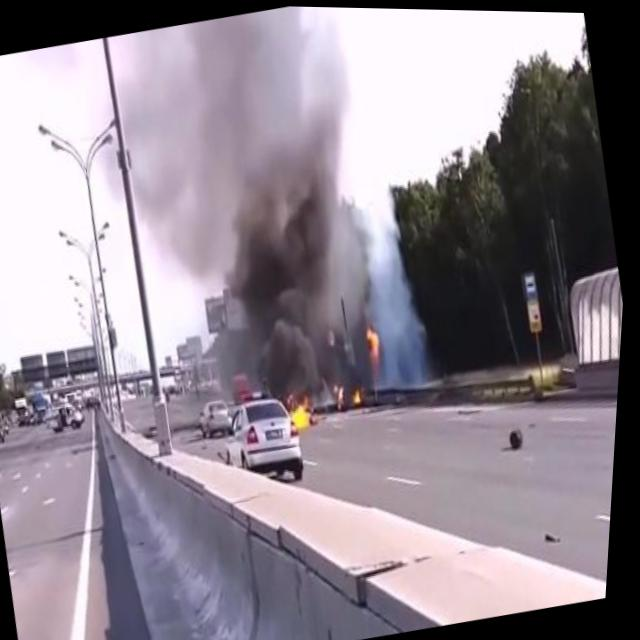fire: (331, 372, 374, 411), (291, 388, 328, 430), (364, 320, 392, 370)
